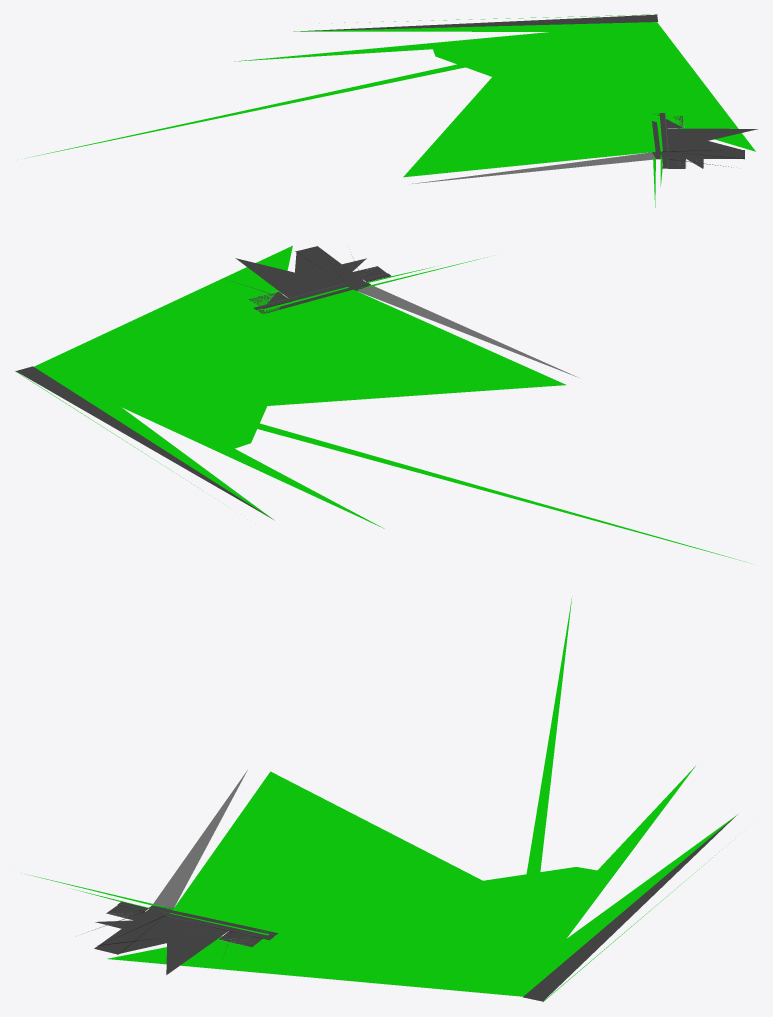
3 renders of one model, top to bottom at view 1: azimuth 30°, elevation 25°; view 2: azimuth 150°, elevation 25°; view 3: azimuth 270°, elevation 25°, orthographic. The views are drawn at different scales.
Size of the model in its own units: 148 by 0.12 by 114.
